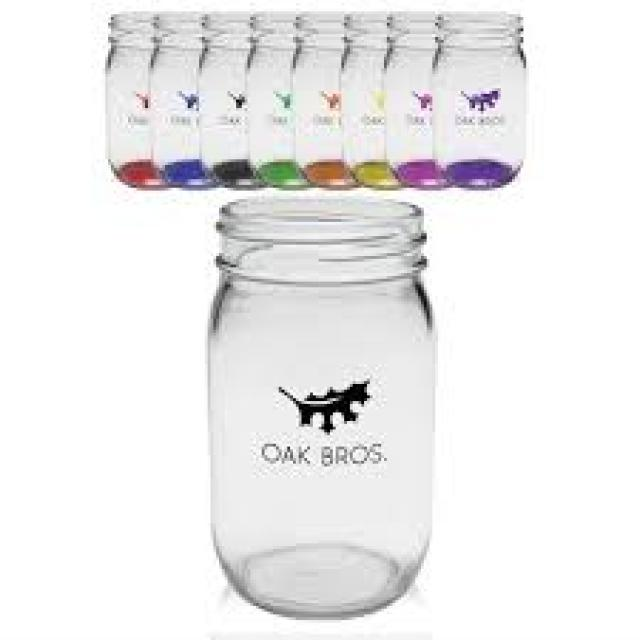glass: (205, 197, 438, 618), (430, 9, 526, 188), (384, 11, 455, 185), (336, 11, 404, 185), (148, 9, 216, 182), (287, 9, 353, 182), (245, 8, 304, 185), (196, 11, 256, 185), (105, 11, 165, 185)
